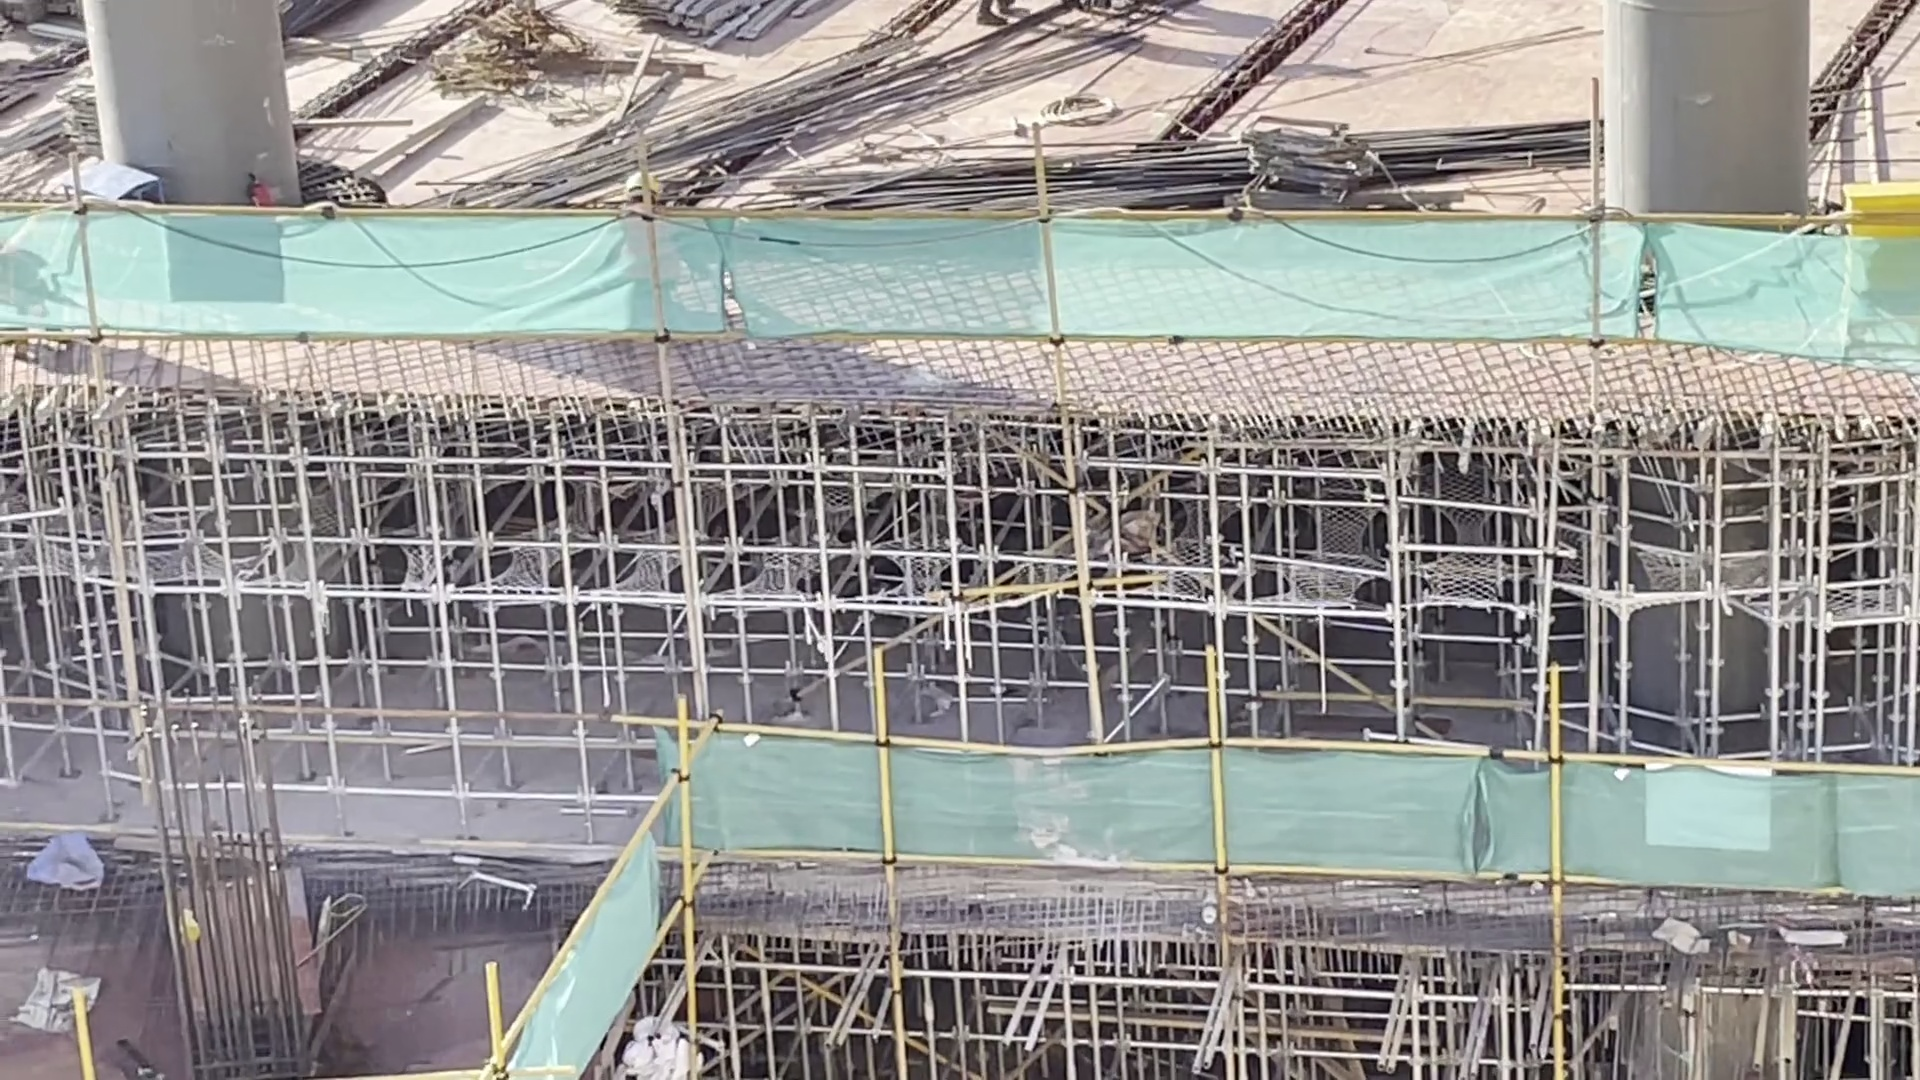ebox: (1833, 161, 1920, 313)
